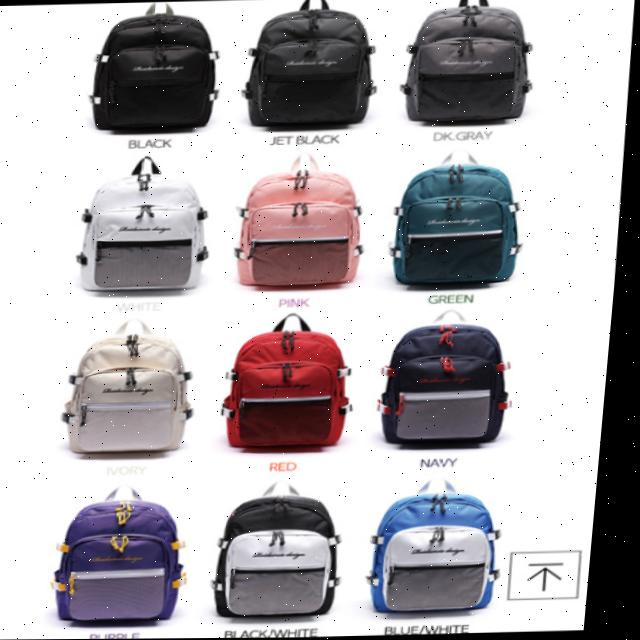backpack: (52, 155, 234, 301), (212, 312, 377, 470), (379, 312, 534, 462), (53, 324, 209, 463), (385, 152, 538, 289), (230, 5, 387, 136), (228, 157, 374, 297)
